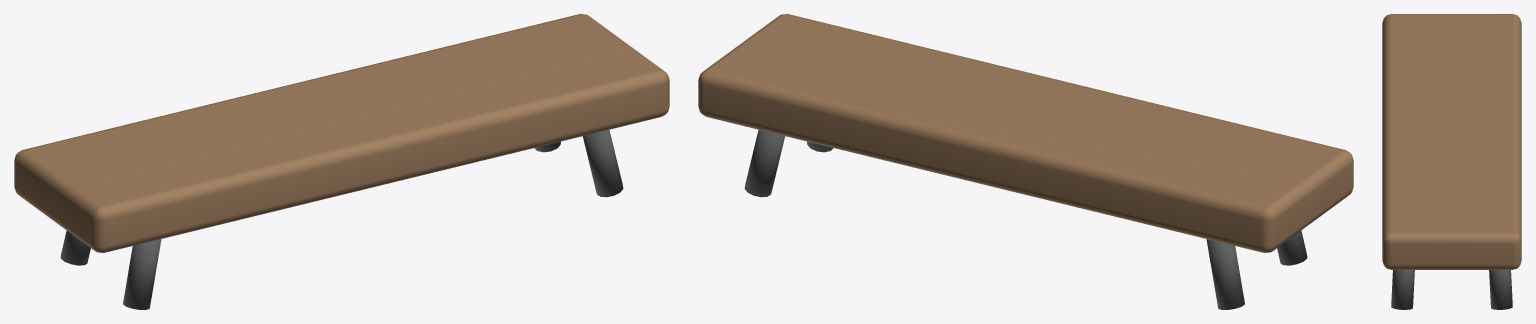
The model's file is banco-vereda.glb.
3 renders of one model, left to right at view 1: azimuth 30°, elevation 25°; view 2: azimuth 150°, elevation 25°; view 3: azimuth 270°, elevation 25°, orthographic. The views are drawn at different scales.
Visible parts, largest first — view 1: Assento de madeira, Perna metálica, Perna metálica.002, Perna metálica.001; view 2: Assento de madeira, Perna metálica.001, Perna metálica.003, Perna metálica; view 3: Assento de madeira, Perna metálica.002, Perna metálica.003.
Boxes of the visible parts, bbox=[...] form: Assento de madeira: bbox=[14, 14, 669, 252]; Perna metálica: bbox=[123, 239, 161, 309]; Perna metálica.002: bbox=[583, 129, 623, 197]; Perna metálica.001: bbox=[60, 230, 90, 265]; Assento de madeira: bbox=[698, 14, 1353, 252]; Perna metálica.001: bbox=[1206, 239, 1244, 309]; Perna metálica.003: bbox=[744, 129, 784, 197]; Perna metálica: bbox=[1277, 230, 1307, 265]; Assento de madeira: bbox=[1382, 14, 1521, 269]; Perna metálica.002: bbox=[1391, 270, 1414, 309]; Perna metálica.003: bbox=[1489, 270, 1512, 309].
Bounding box in the file's own units: 1.04 × 0.2033 × 0.273.
